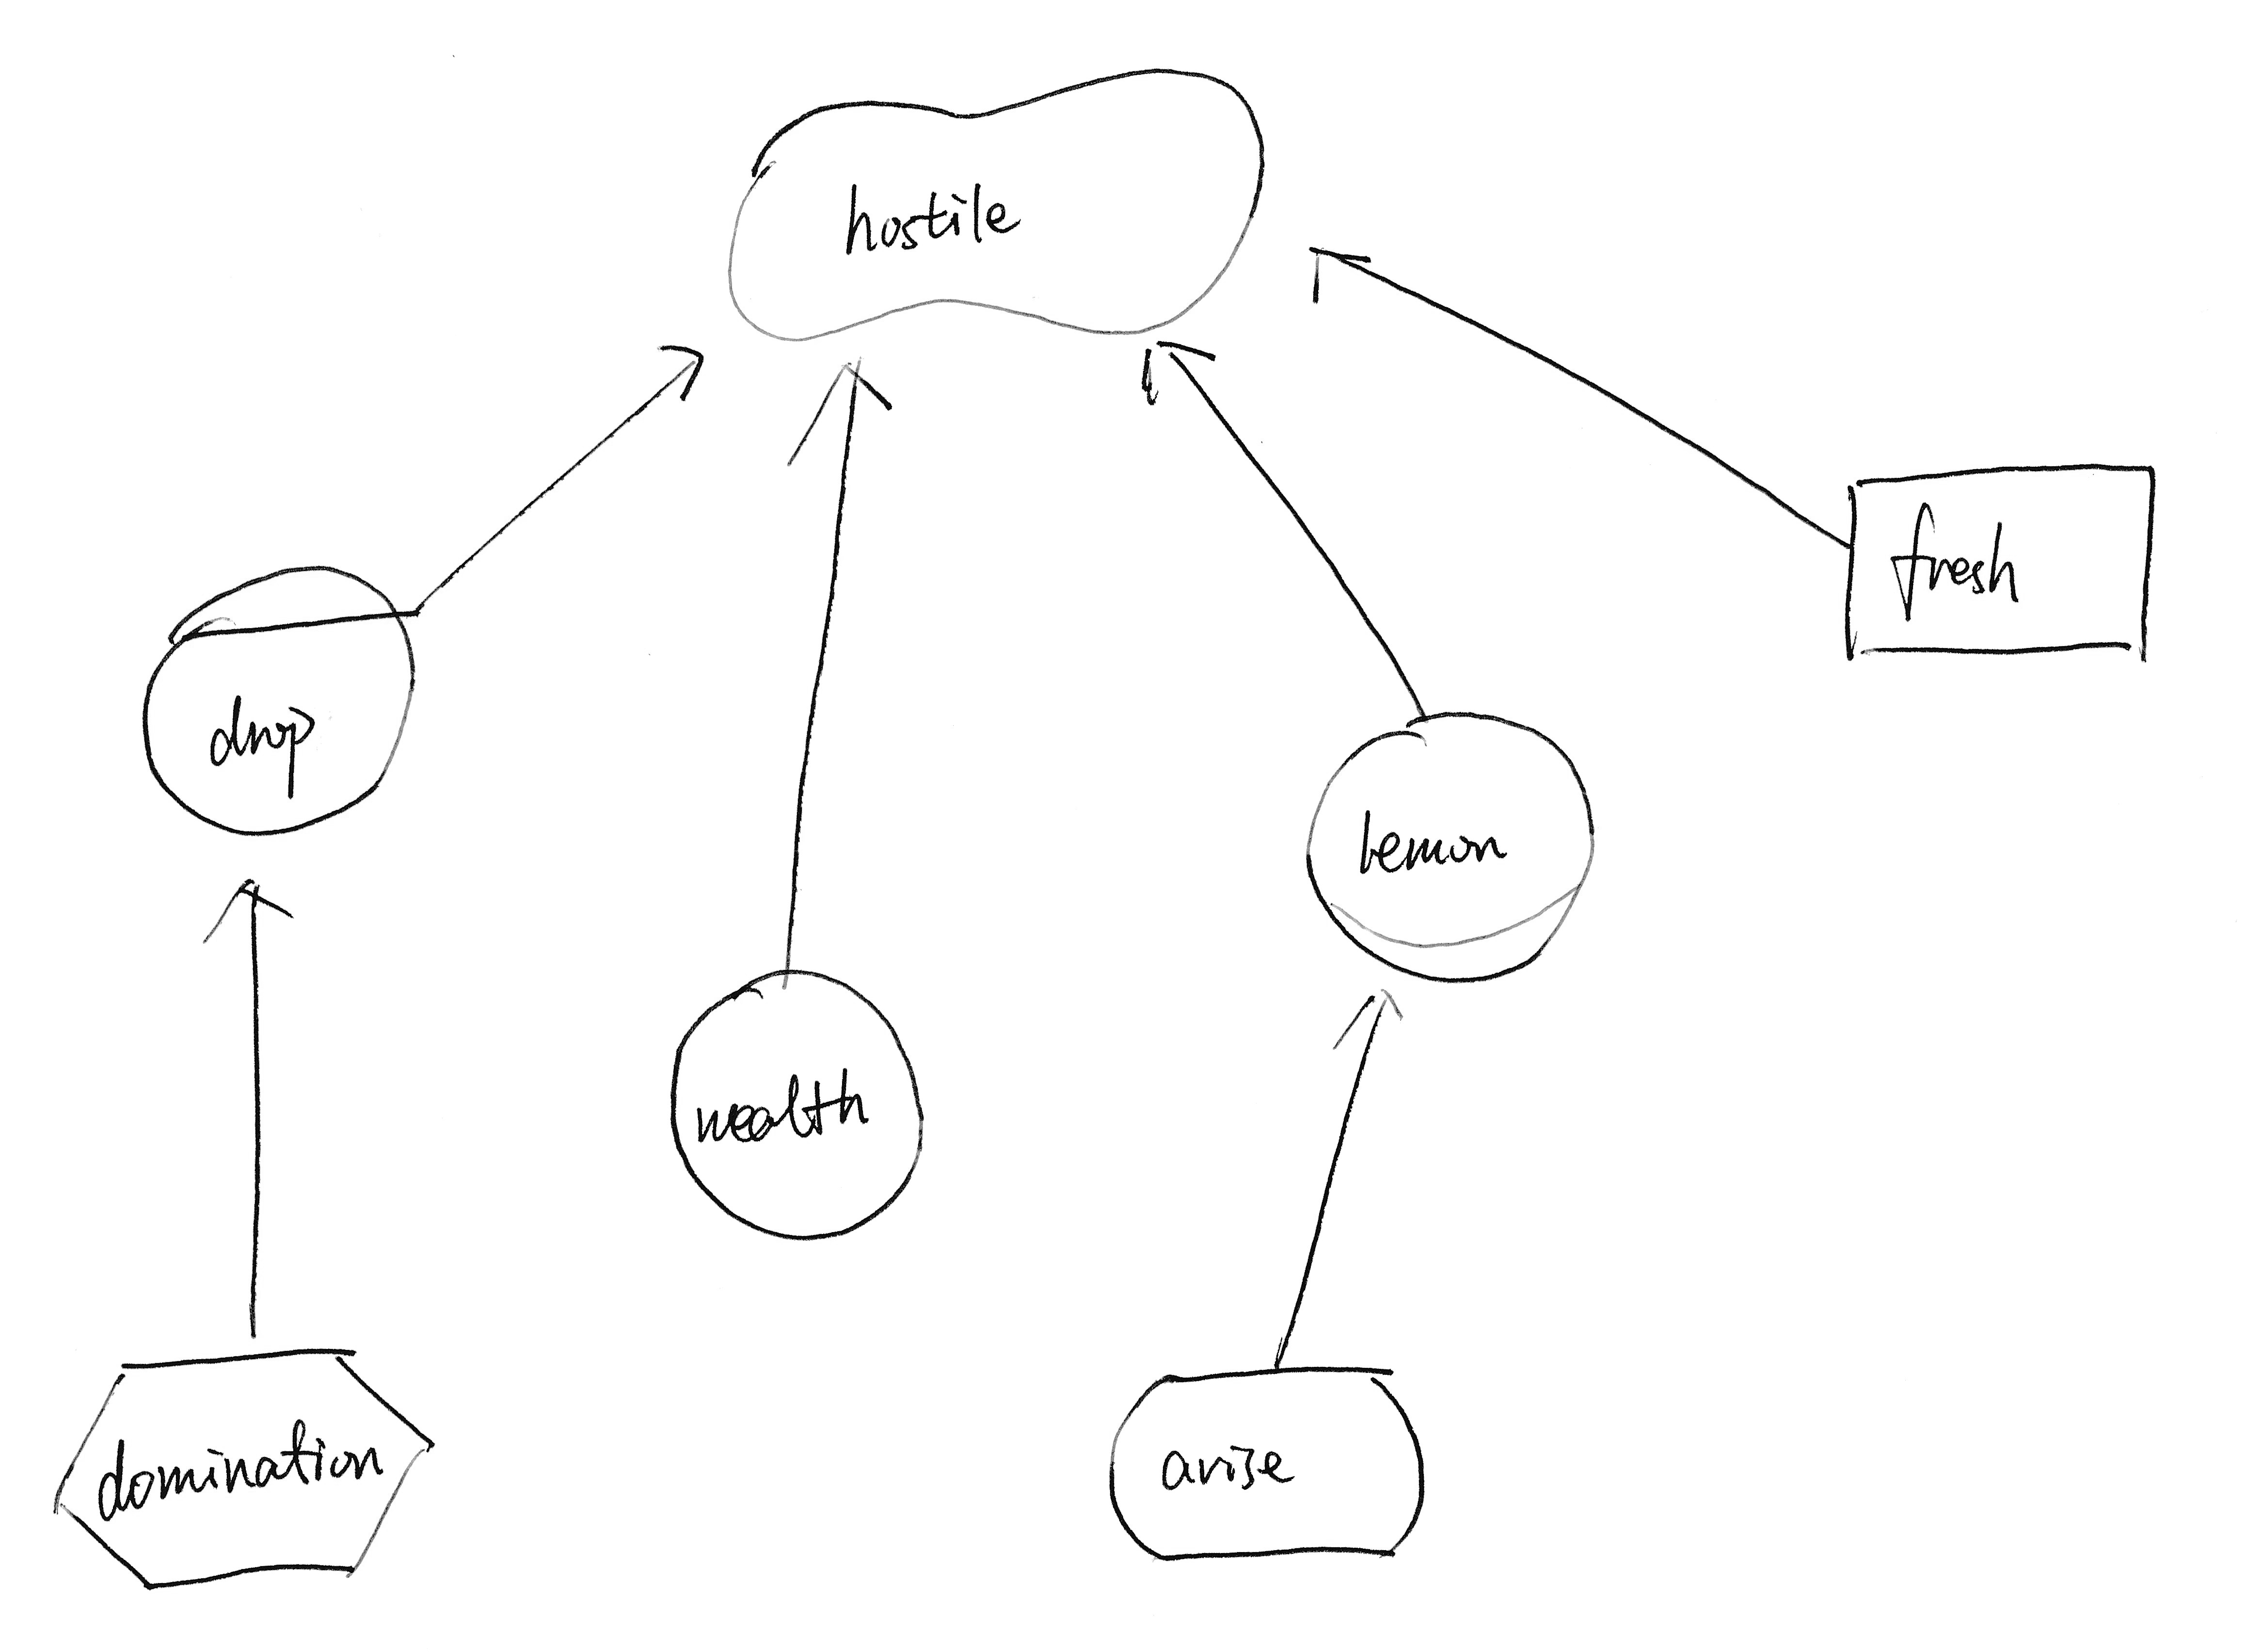actor: (649, 949, 948, 1259)
agent: (117, 555, 431, 855)
arrow: (775, 342, 908, 485), (187, 864, 321, 954), (1110, 328, 1236, 422), (1321, 975, 1424, 1073), (1286, 232, 1393, 326), (639, 317, 723, 426)
goal: (1093, 1343, 1447, 1575)
quality: (700, 33, 1285, 358)
resource: (1822, 434, 2171, 687)
role: (1290, 694, 1606, 1001)
task: (37, 1322, 449, 1610)
